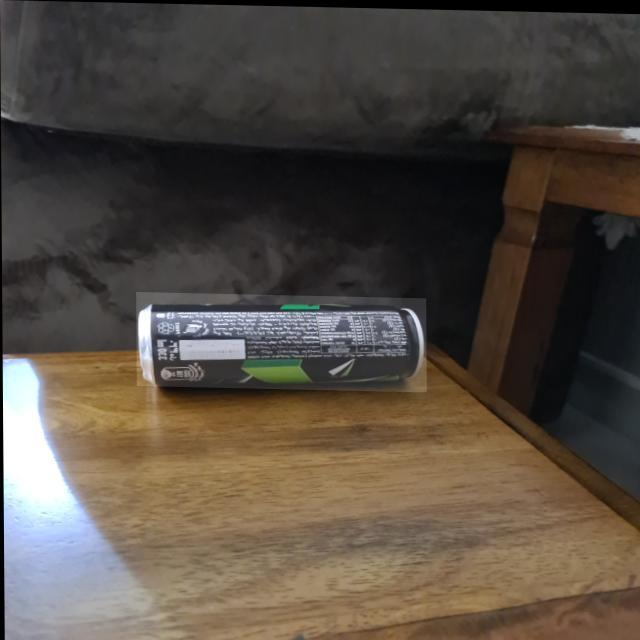trash: (125, 290, 428, 390)
